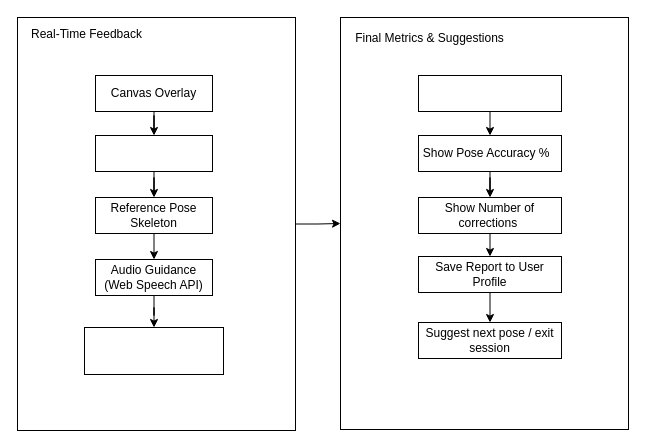
Some shapes in this 646 by 448 pixel diagram are drawn without their labels. The shapes that lost their labels are listed below. From the top down, each one's box as (x1, y1, x2, y2) in pixels, then its label:
(418, 74, 562, 112): Show Stability Time
(94, 134, 212, 172): Live Pose Skeleton
(84, 326, 224, 374): Optional: Show reference video clip
